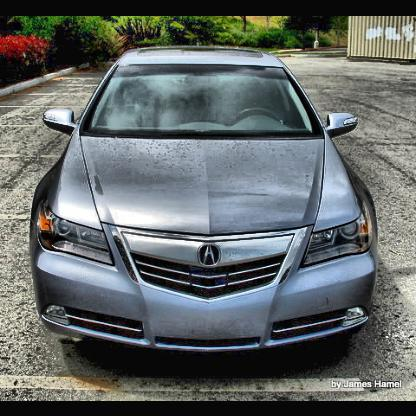Acura RL Sedan 2012: (29, 44, 380, 357)
